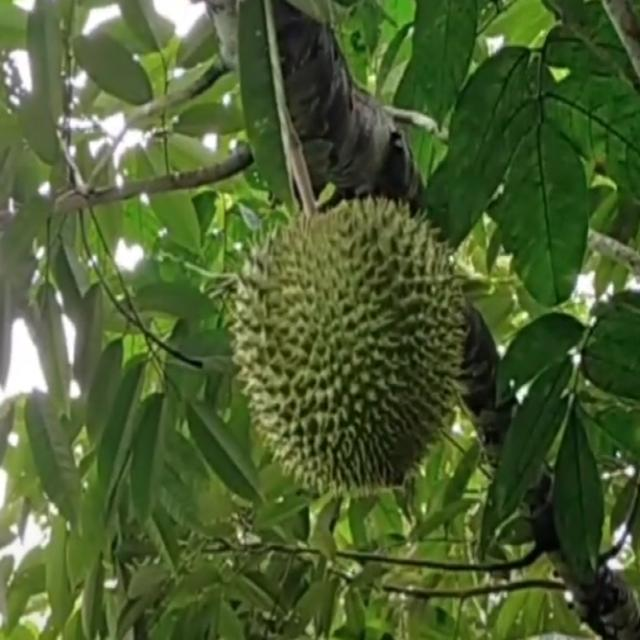immature: (233, 193, 466, 496)
